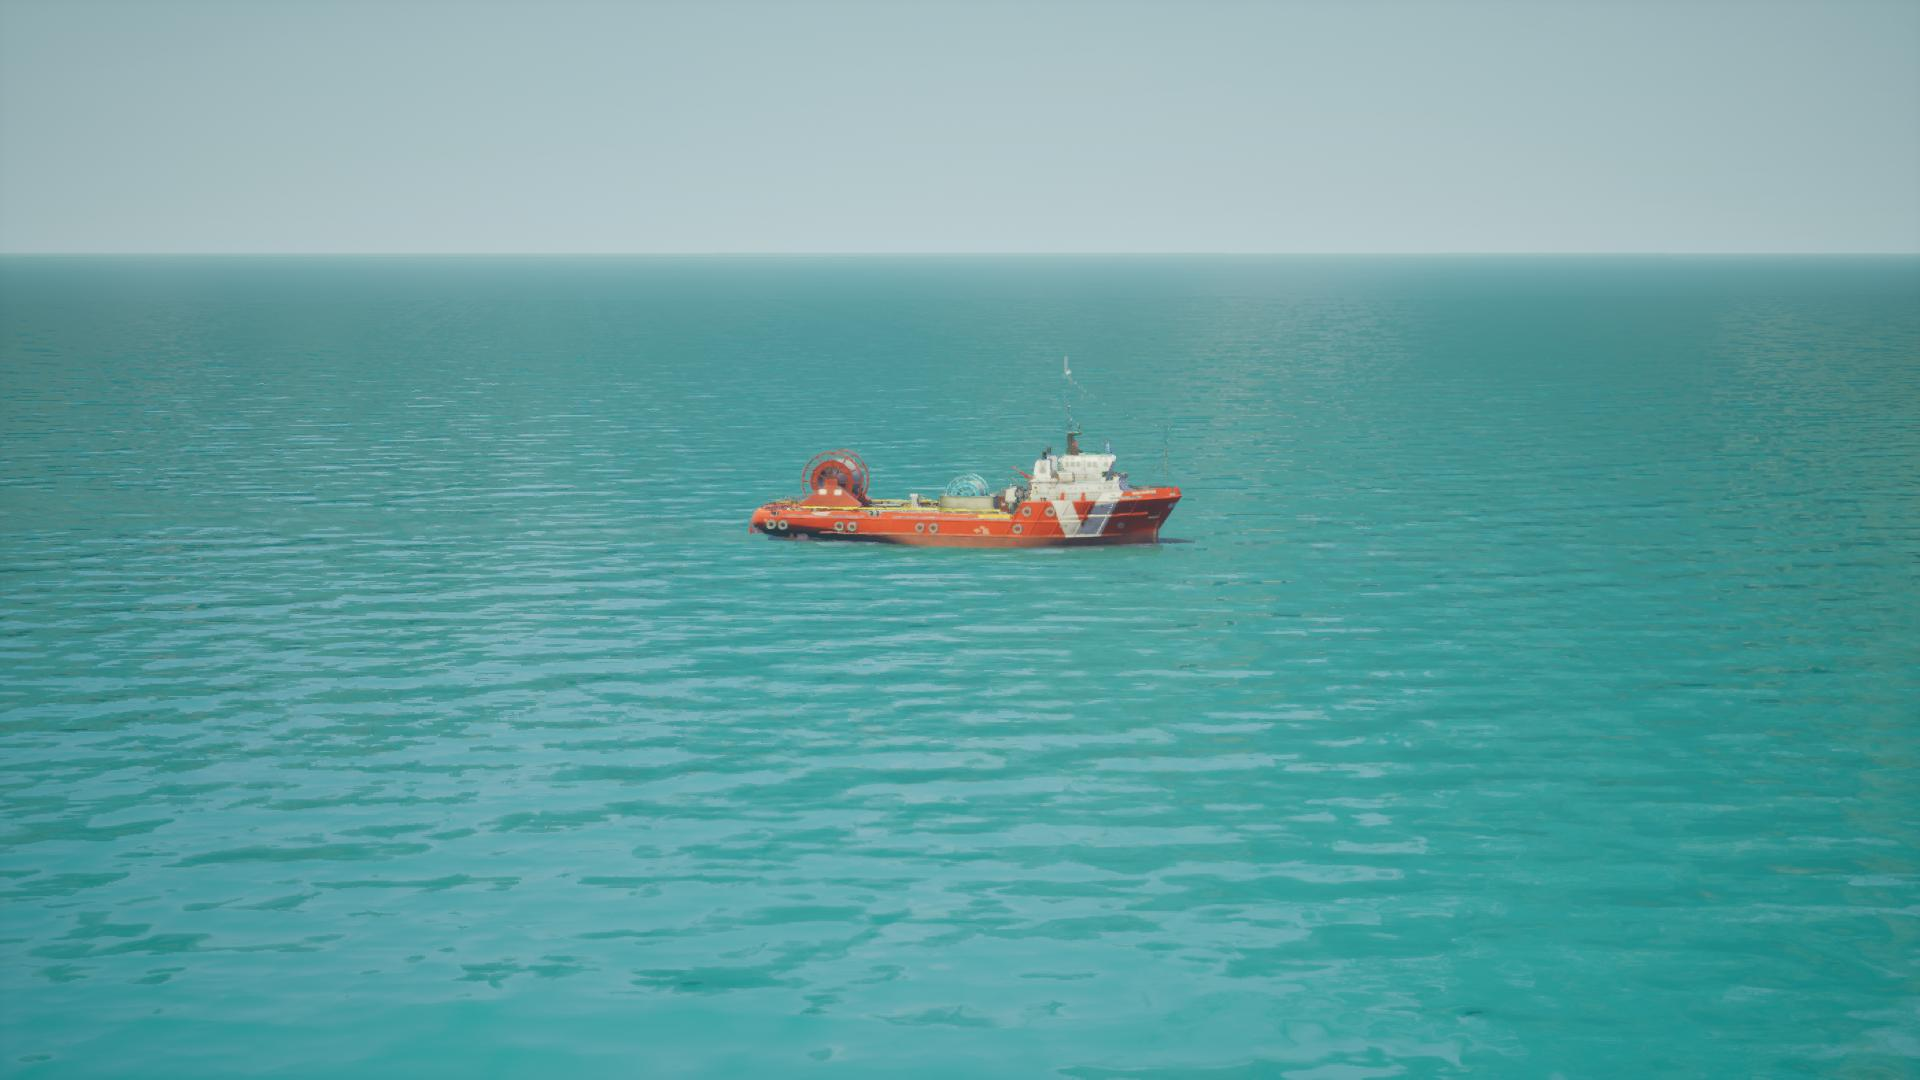Tug Boat: (750, 353, 1188, 549), (731, 458, 1201, 554)
